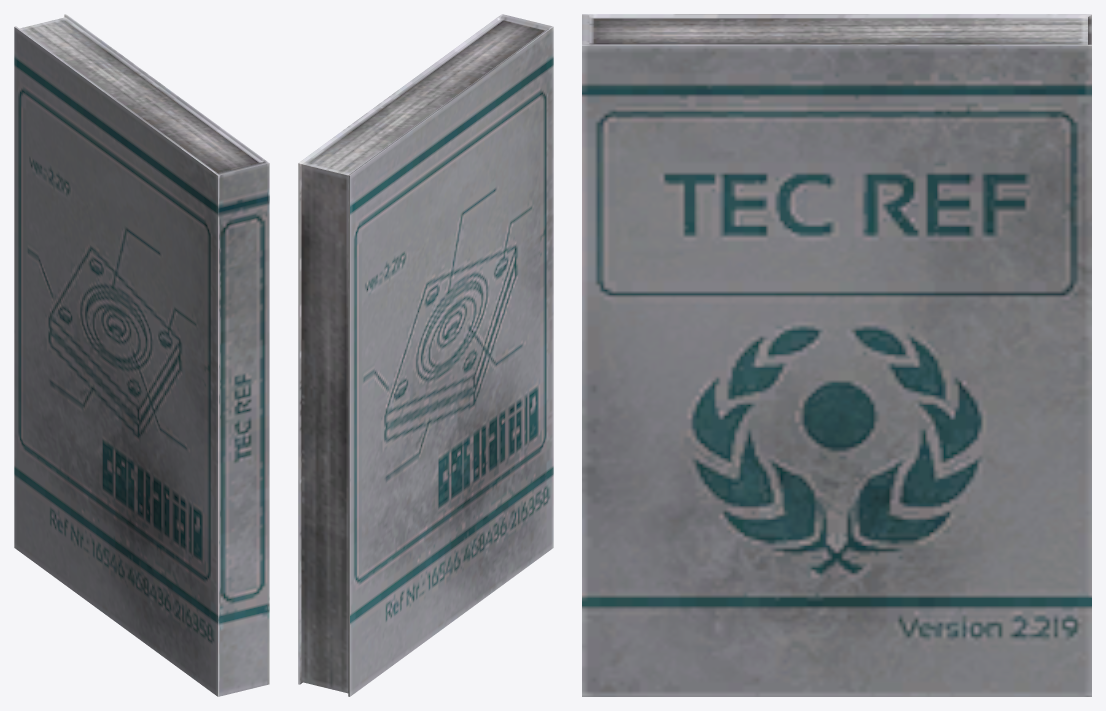
File: book_closed02.dae
3 views of the same model, side by side, from view 1: azimuth 30°, elevation 25°; view 2: azimuth 150°, elevation 25°; view 3: azimuth 270°, elevation 25° (orthographic). The views are drawn at different scales.
Parts seen in each view (by area): view 1: book_closed02_LP; view 2: book_closed02_LP; view 3: book_closed02_LP.
Part boxes in pixels (<box>): book_closed02_LP: <box>14,14,269,696</box>; book_closed02_LP: <box>298,14,553,696</box>; book_closed02_LP: <box>582,14,1091,696</box>.
Size of the model in its own units: 0.031 by 0.2982 by 0.2114.
